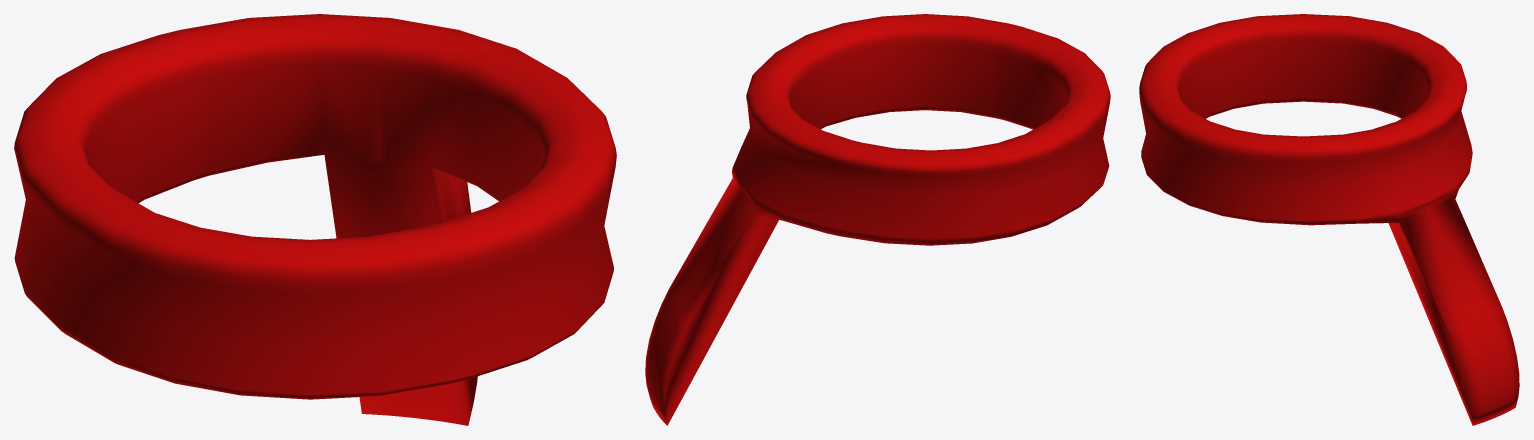
File: scarf.glb
3 views of the same model, side by side, from view 1: azimuth 30°, elevation 25°; view 2: azimuth 150°, elevation 25°; view 3: azimuth 270°, elevation 25° (orthographic). The views are drawn at different scales.
Visible parts, largest first — view 1: Cube; view 2: Cube; view 3: Cube.
Part boxes in pixels (x1,y1,x2,y2): Cube: (14, 14, 616, 425); Cube: (645, 14, 1110, 425); Cube: (1139, 14, 1519, 425).
Bounding box in the file's own units: 4.27 × 3.44 × 4.45.
